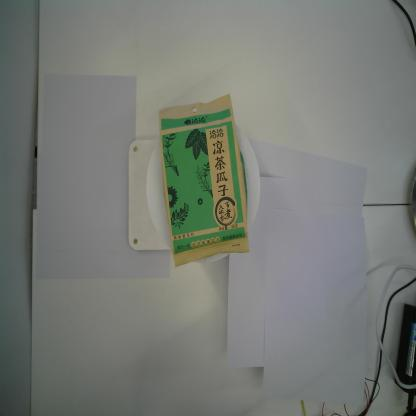Dried Food: (158, 92, 251, 268)
